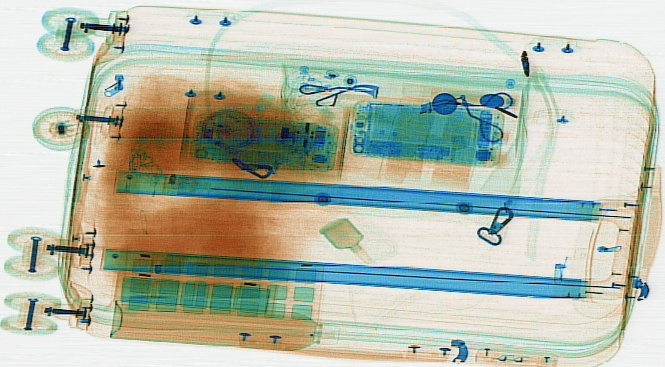pressure: (107, 296, 341, 352)
